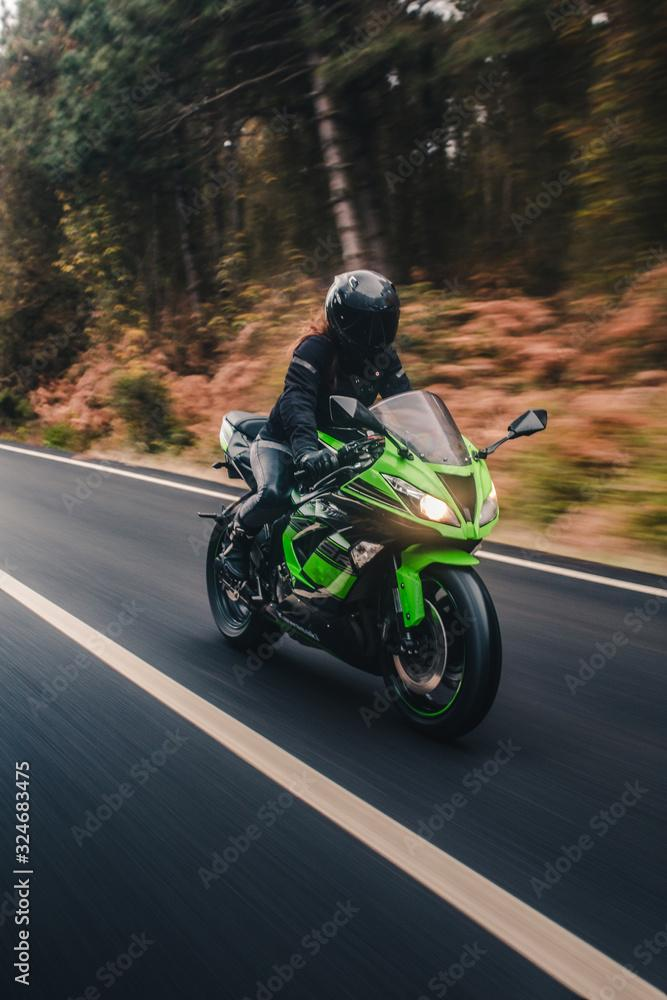helmet: (324, 268, 401, 365)
